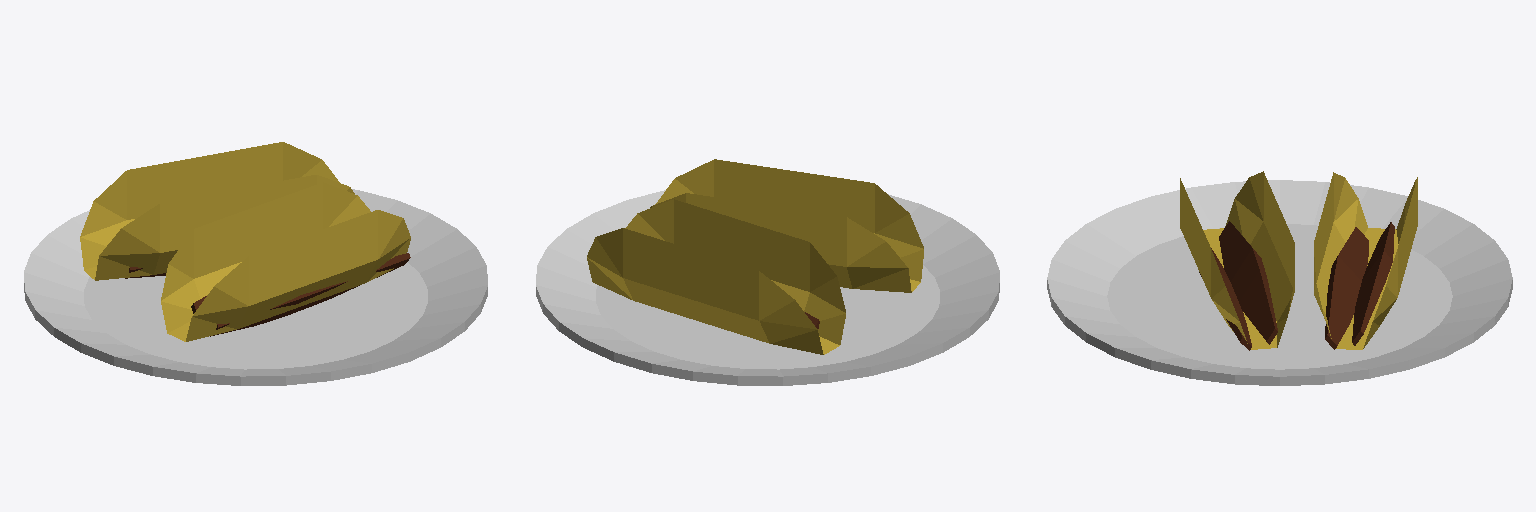
Rendered from beefTacos.obj.
3 renders of one model, left to right at view 1: azimuth 30°, elevation 25°; view 2: azimuth 150°, elevation 25°; view 3: azimuth 270°, elevation 25°, orthographic.
Visible parts, largest first — view 1: FishPlate_Cylinder.007; view 2: FishPlate_Cylinder.007; view 3: FishPlate_Cylinder.007.
Part boxes in pixels (left/top/right/bottom): FishPlate_Cylinder.007: left=24, top=142, right=487, bottom=385; FishPlate_Cylinder.007: left=536, top=159, right=999, bottom=385; FishPlate_Cylinder.007: left=1047, top=171, right=1512, bottom=385.
Bounding box in the file's own units: 0.1617 × 0.0385 × 0.1617.